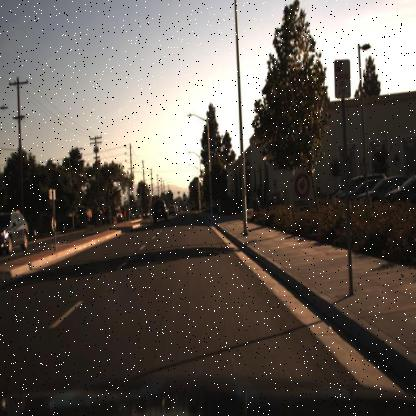car: (359, 177, 410, 205), (0, 210, 31, 254), (149, 198, 169, 224), (151, 198, 170, 224), (165, 200, 178, 218), (140, 208, 152, 223)
